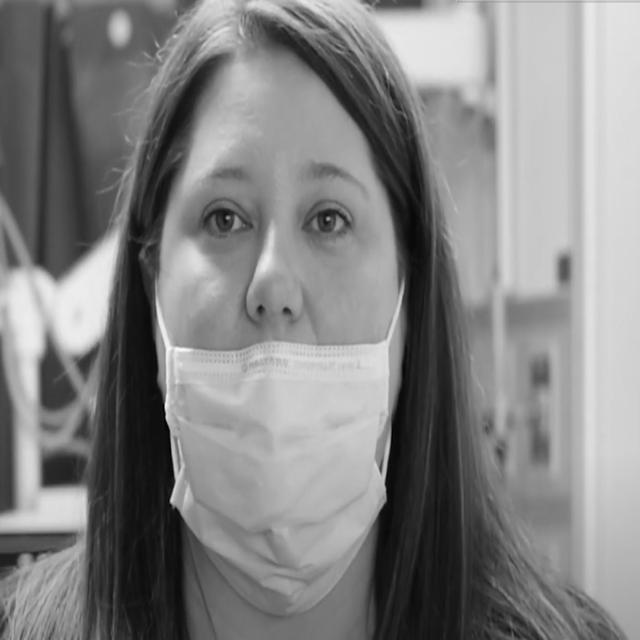hairnet: (170, 152, 386, 604)
